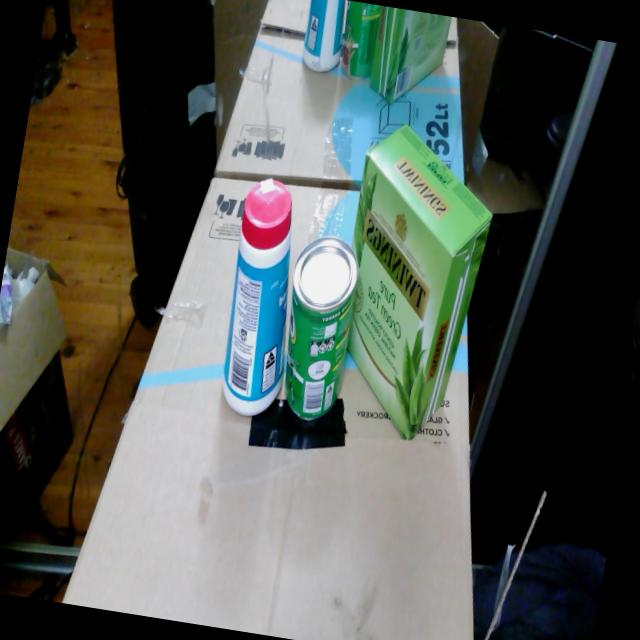nestle_milo_tin: (284, 236, 358, 421)
twinings_greentea_box: (347, 124, 492, 439)
woolworths_salt_bottle: (222, 179, 292, 416)
